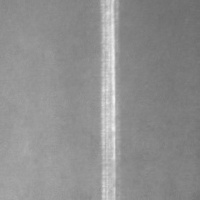scratches: (94, 1, 124, 199)
